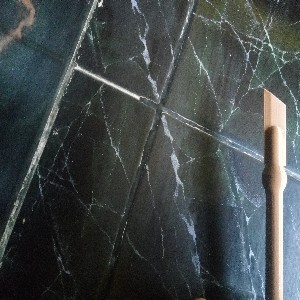cutter: (261, 85, 288, 300)
